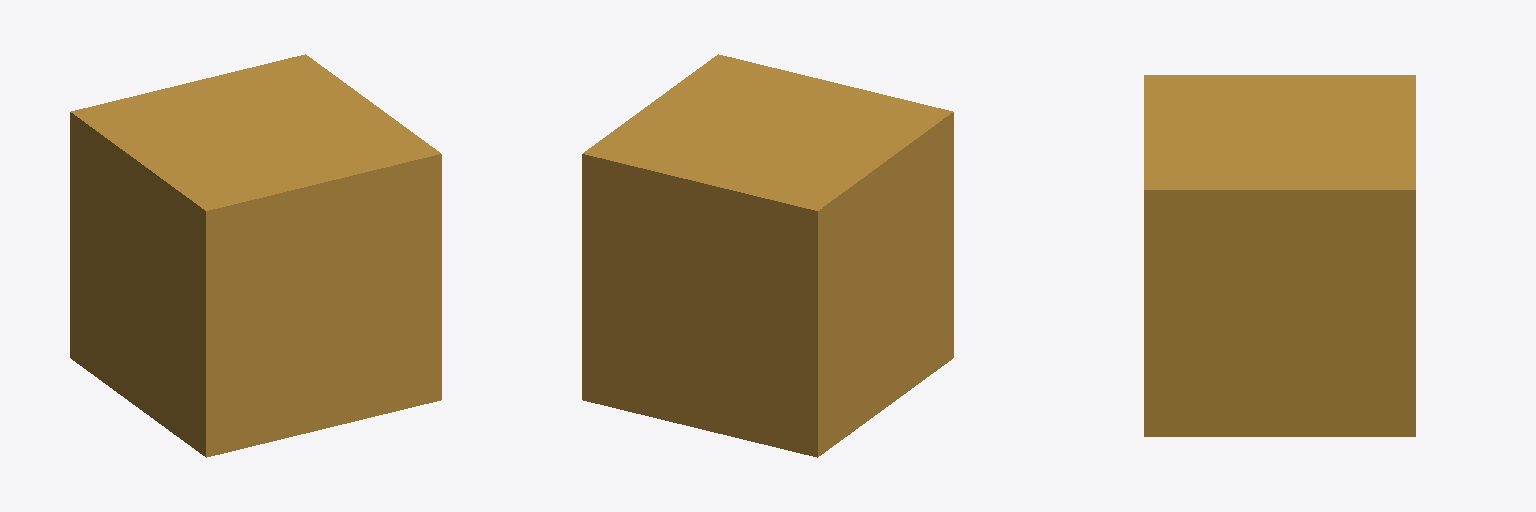
3 renders of one model, left to right at view 1: azimuth 30°, elevation 25°; view 2: azimuth 150°, elevation 25°; view 3: azimuth 270°, elevation 25°, orthographic.
Parts seen in each view (by area): view 1: pCube143; view 2: pCube143; view 3: pCube143.
Part boxes in pixels (x1,y1,x2,y2): pCube143: (70,54,441,457); pCube143: (582,54,953,457); pCube143: (1144,75,1415,436).
Bounding box in the file's own units: 1 × 1 × 1.
Materials: 1 (1 with a texture image).